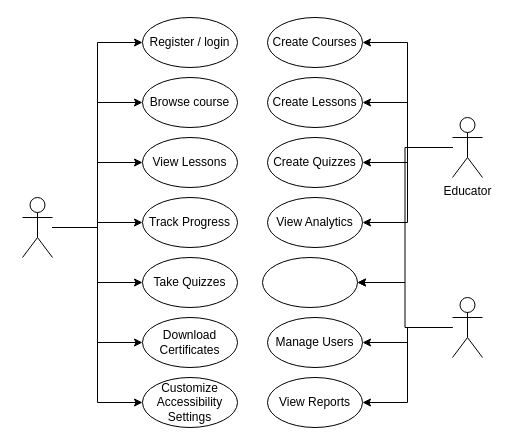
Some shapes in this 509 by 445 pixel diagram are drawn without their labels. Here are the shapes that lost their labels. From the top down, the box of each, then its label:
(22, 196, 52, 258): Learner
(262, 256, 358, 308): Manage Course
(452, 296, 482, 358): Admin
